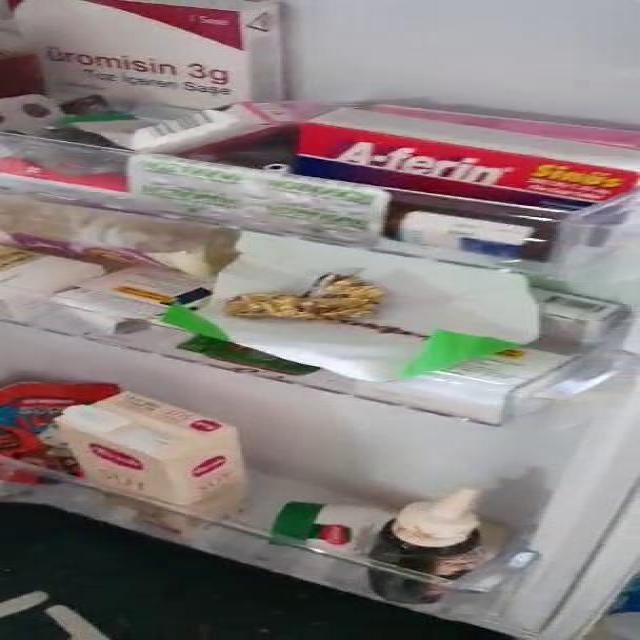milk: (68, 393, 250, 515)
